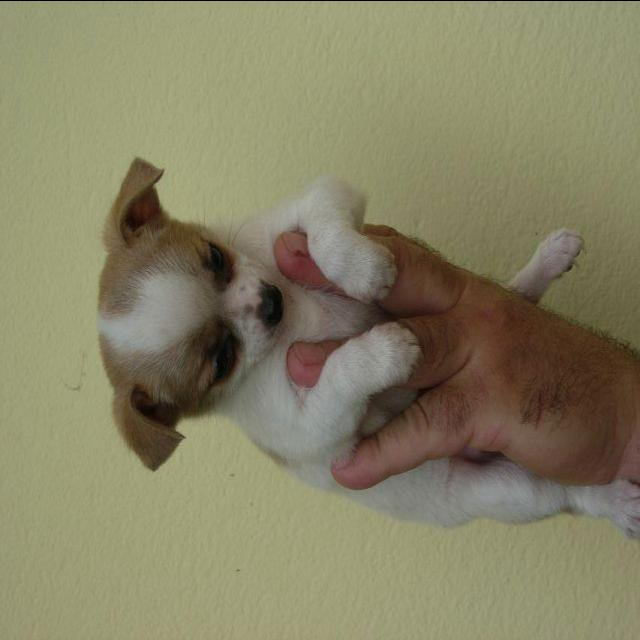chihuahua: (92, 142, 638, 546)
